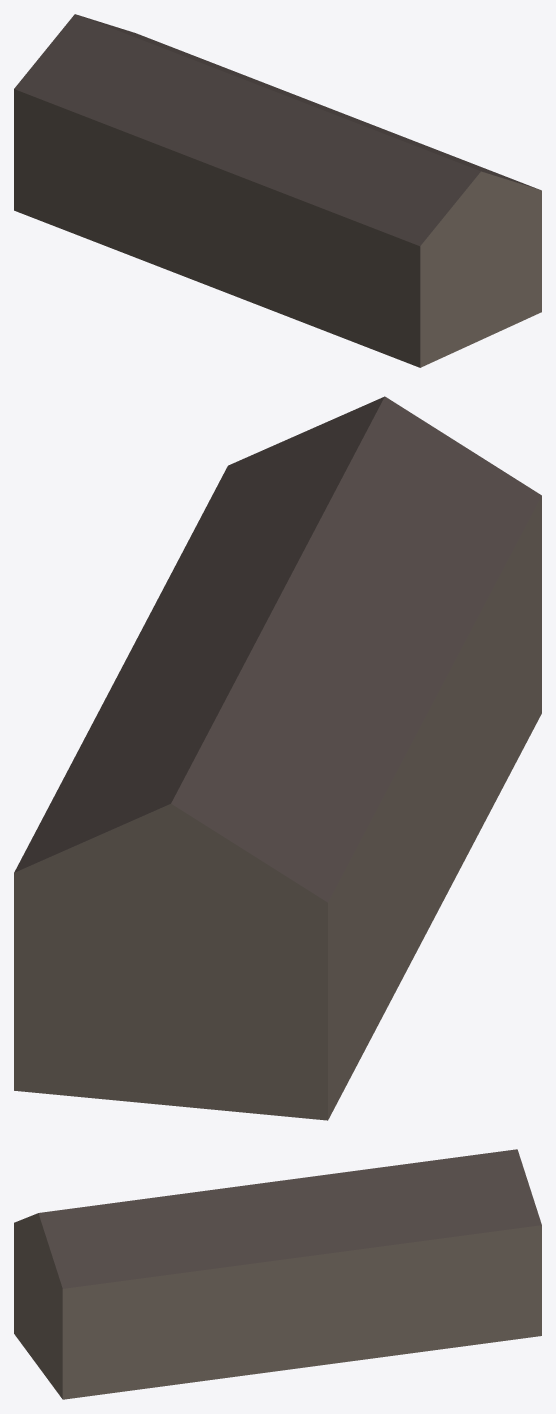
3 views of the same model, one above another, from view 1: azimuth 30°, elevation 25°; view 2: azimuth 150°, elevation 25°; view 3: azimuth 270°, elevation 25° (orthographic). The views are drawn at different scales.
Parts seen in each view (by area): view 1: HP-w859457308; view 2: HP-w859457308; view 3: HP-w859457308.
Part boxes in pixels (left/top/right/bottom): HP-w859457308: left=14, top=14, right=541, bottom=367; HP-w859457308: left=14, top=396, right=541, bottom=1120; HP-w859457308: left=14, top=1149, right=541, bottom=1399.
Bounding box in the file's own units: 15.07 × 8.32 × 25.9.
